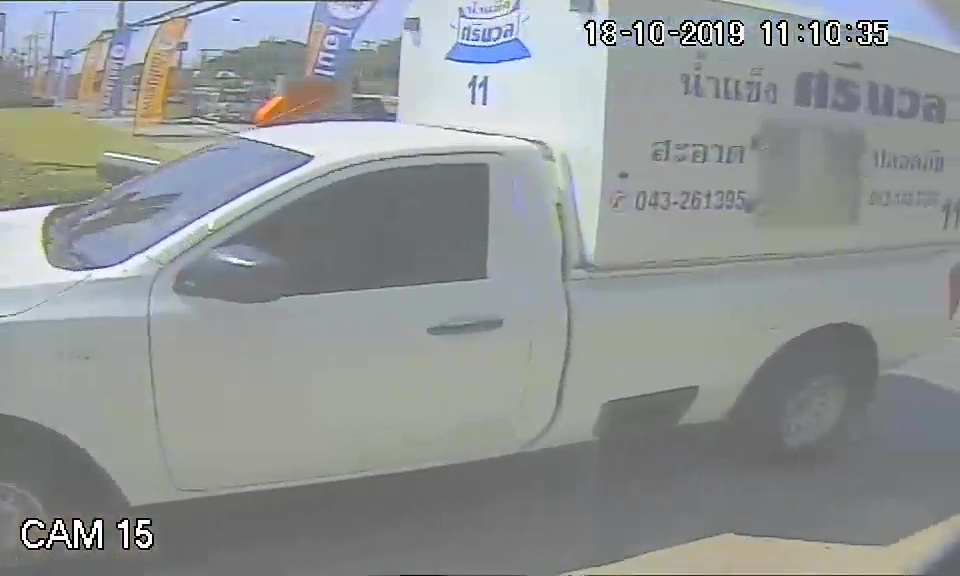pickup: (1, 115, 960, 510)
